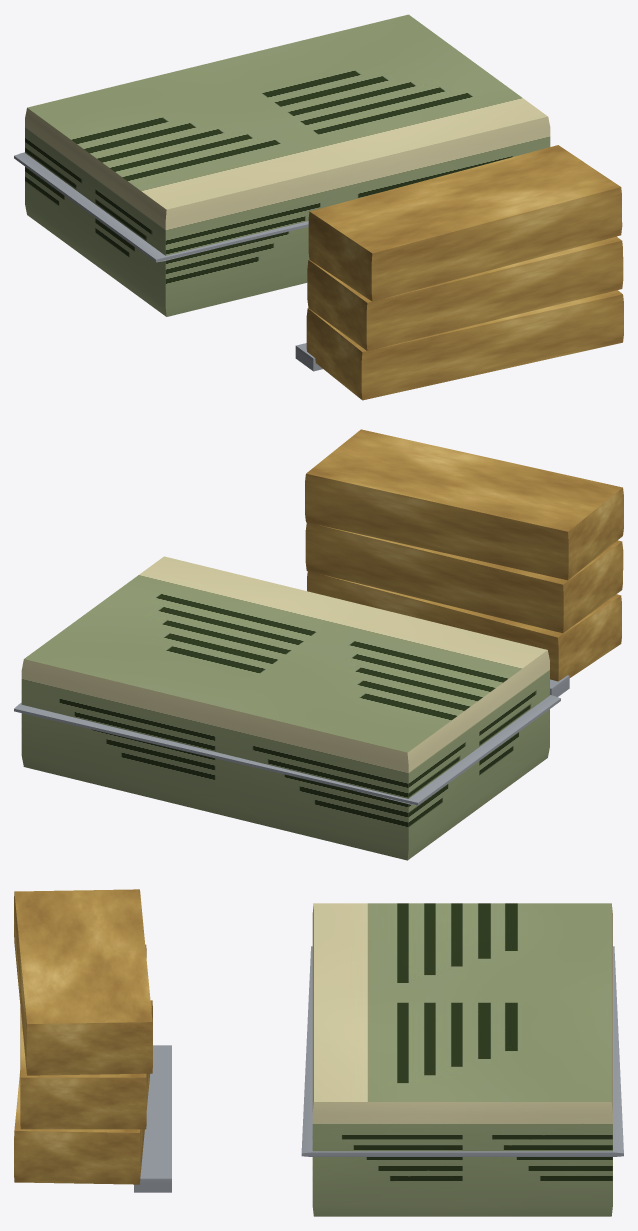
Rendered from ration_ration_brick_pack.glb.
The picture shows the model from 3 angles, top to bottom: view 1: azimuth 30°, elevation 25°; view 2: azimuth 150°, elevation 25°; view 3: azimuth 270°, elevation 25°; orthographic projection. The views are drawn at different scales.
Visible parts, largest first — view 1: ration_ration_brick_pack; view 2: ration_ration_brick_pack; view 3: ration_ration_brick_pack.
Boxes of the visible parts, bbox=[...] form: ration_ration_brick_pack: bbox=[14, 14, 623, 400]; ration_ration_brick_pack: bbox=[14, 429, 623, 860]; ration_ration_brick_pack: bbox=[14, 889, 623, 1216].
Size of the model in its own units: 0.155 by 0.0592 by 0.193.
3 materials, 2 textured.
